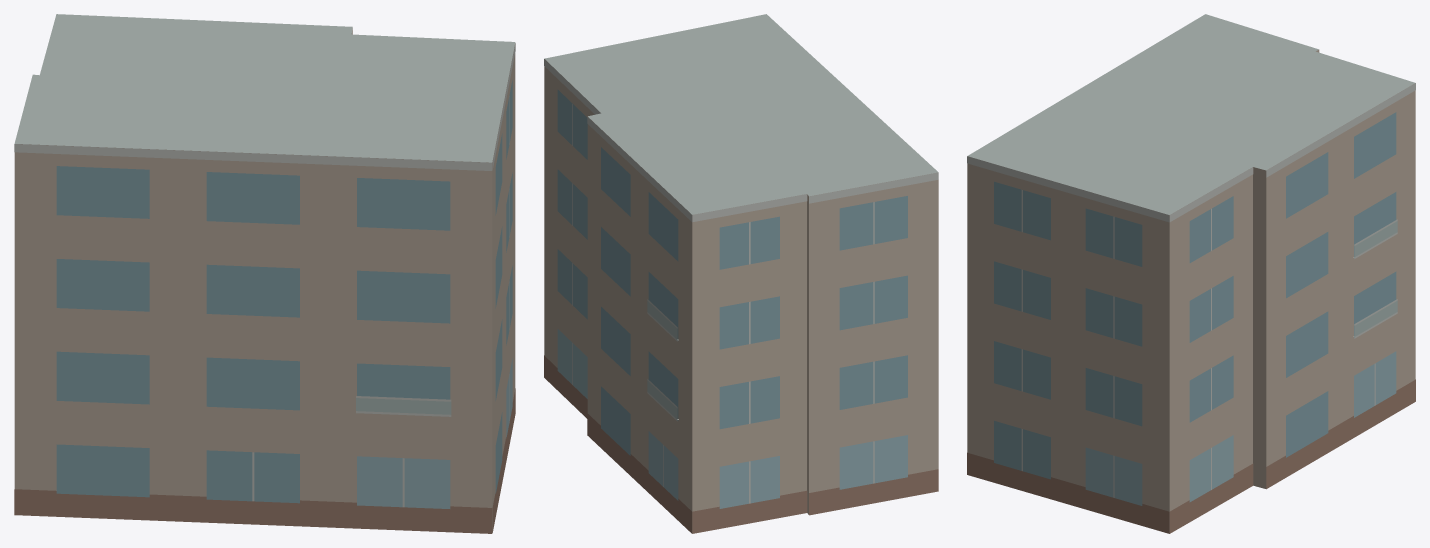
File: survey-upis-32810843.glb
3 renders of one model, left to right at view 1: azimuth 30°, elevation 25°; view 2: azimuth 150°, elevation 25°; view 3: azimuth 270°, elevation 25°, orthographic. The views are drawn at different scales.
Visible parts, largest first — view 1: survey-upis-32810843.tmp; view 2: survey-upis-32810843.tmp; view 3: survey-upis-32810843.tmp.
Part boxes in pixels (box(x1,y1,x2,y2)): survey-upis-32810843.tmp: box(14, 14, 515, 533); survey-upis-32810843.tmp: box(544, 14, 938, 533); survey-upis-32810843.tmp: box(967, 14, 1415, 533).
Size of the model in its own units: 14.35 by 10.6 by 13.53.
